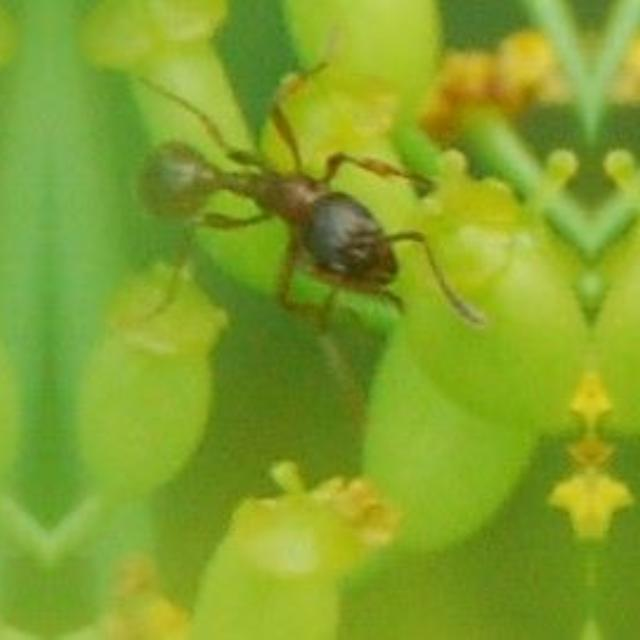Myrmica: (121, 62, 471, 348)
